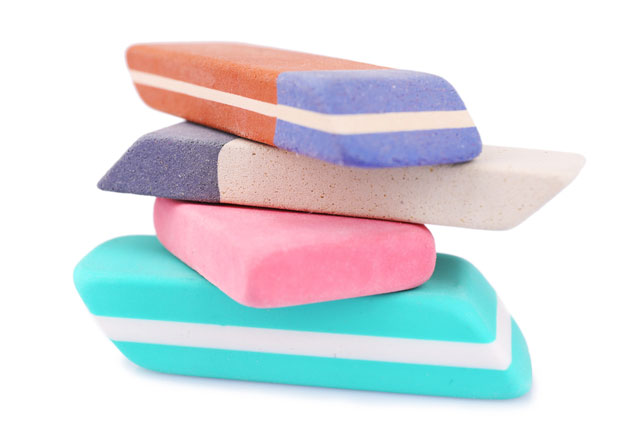eraser: (69, 29, 602, 414)
